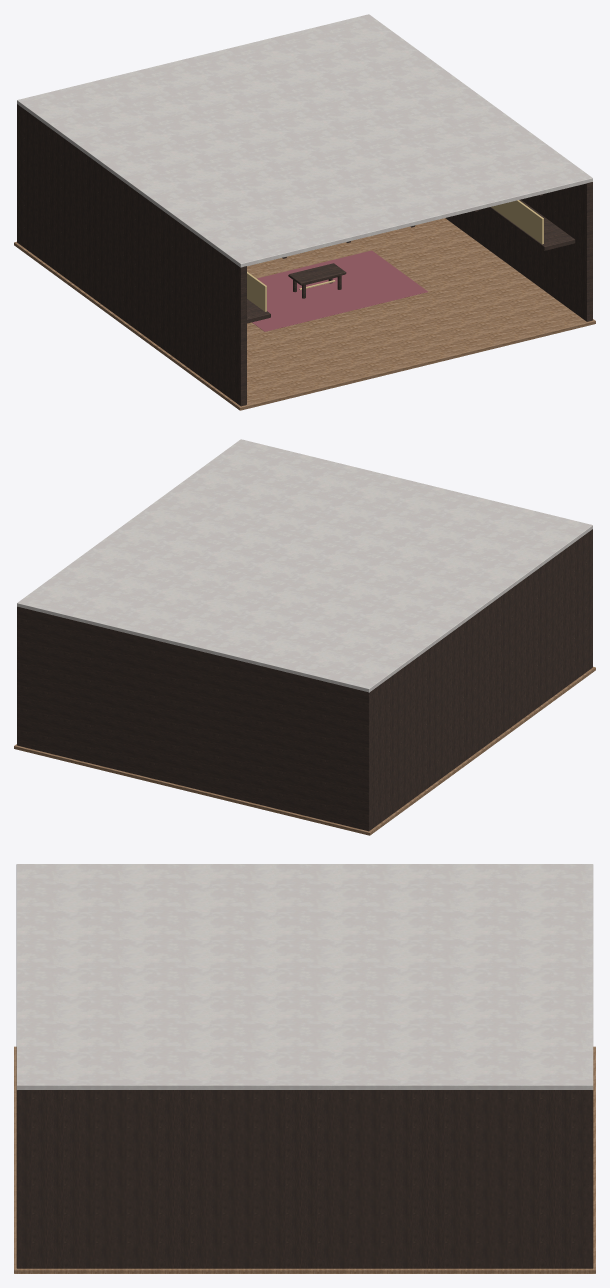
File: heritage-lite.glb
3 views of the same model, one above another, from view 1: azimuth 30°, elevation 25°; view 2: azimuth 150°, elevation 25°; view 3: azimuth 270°, elevation 25° (orthographic). The views are drawn at different scales.
Visible parts, largest first — view 1: Coffered ceiling, Oak parquet floor, West paneled wall, East paneled wall, Central wool rug, Balcony rail 1, Balcony 1, Reading table 0, Balcony rail -1, North paneled wall; view 2: Coffered ceiling, North paneled wall, West paneled wall, Oak parquet floor; view 3: Coffered ceiling, East paneled wall, Oak parquet floor, North paneled wall.
Part boxes in pixels (x1,y1,x2,y2): Coffered ceiling: (17,14,592,267); Oak parquet floor: (14,218,595,410); West paneled wall: (20,106,246,406); East paneled wall: (445,182,592,321); Central wool rug: (252,250,427,331); Balcony rail 1: (491,200,543,244); Balcony 1: (486,199,575,250); Reading table 0: (288,263,346,285); Balcony rail -1: (247,271,266,311); North paneled wall: (17,104,20,244); Coffered ceiling: (17,439,592,692); North paneled wall: (17,606,372,831); West paneled wall: (372,529,592,828); Oak parquet floor: (14,666,595,835); Coffered ceiling: (16,864,593,1089); East paneled wall: (16,1090,584,1268); Oak parquet floor: (14,1046,595,1273); North paneled wall: (584,1090,593,1268).
Size of the model in its own units: 20 by 7.82 by 22.
Materials: 6 (3 with a texture image).
